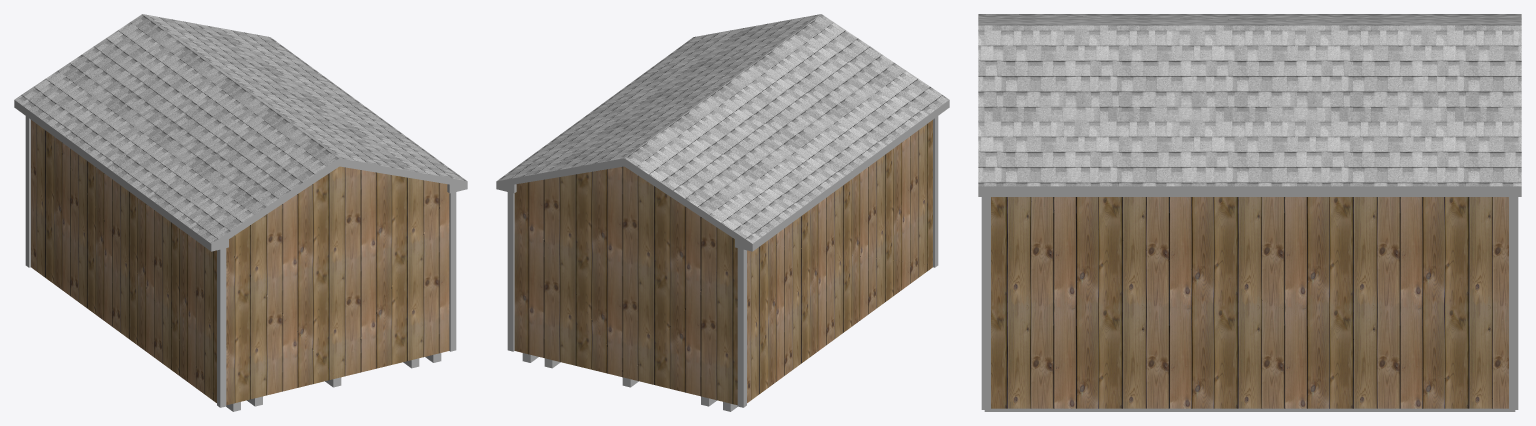
The model's file is A-frame_10x14.obj.
3 views of the same model, side by side, from view 1: azimuth 30°, elevation 25°; view 2: azimuth 150°, elevation 25°; view 3: azimuth 270°, elevation 25° (orthographic). The views are drawn at different scales.
Visible parts, largest first — view 1: Shed, Roof, Sides, Trim, Floor; view 2: Shed, Roof, Sides, Trim, Floor; view 3: Shed, Roof, Sides, Trim, Floor.
Part boxes in pixels (left/top/right/bottom): Shed: left=31, top=120, right=449, bottom=405; Roof: left=14, top=14, right=466, bottom=243; Sides: left=14, top=100, right=467, bottom=251; Trim: left=25, top=116, right=456, bottom=407; Floor: left=226, top=353, right=441, bottom=411; Shed: left=514, top=120, right=932, bottom=405; Roof: left=497, top=14, right=949, bottom=243; Sides: left=496, top=100, right=949, bottom=251; Trim: left=507, top=116, right=938, bottom=407; Floor: left=522, top=353, right=737, bottom=411; Shed: left=991, top=197, right=1508, bottom=408; Roof: left=978, top=14, right=1521, bottom=186; Sides: left=978, top=186, right=1521, bottom=196; Trim: left=981, top=197, right=1518, bottom=409; Floor: left=984, top=408, right=1515, bottom=411.
Bounding box in the file's own units: 3.28 × 2.81 × 4.37.
